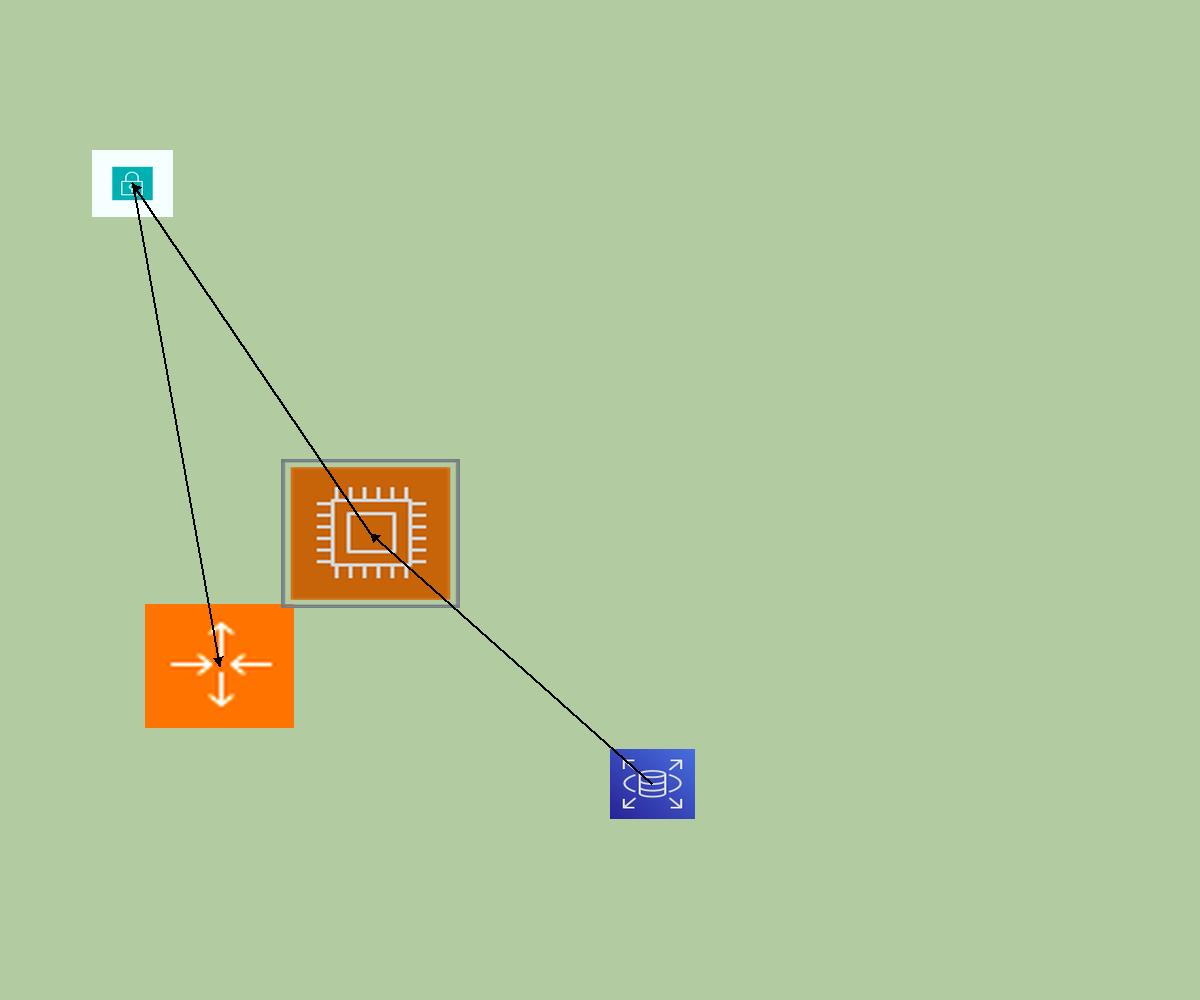AWS-Category_Compute: (281, 459, 460, 608)
AWS-Private-subnet: (92, 150, 173, 217)
AWS-RDS: (610, 749, 695, 819)
AWS-Scaling-group: (145, 604, 294, 728)
